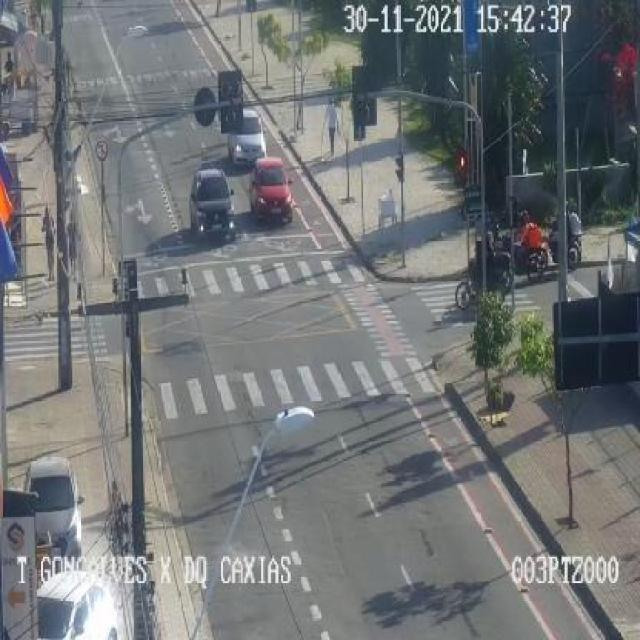Car: (189, 168, 236, 242), (248, 156, 292, 223), (229, 110, 267, 165)
